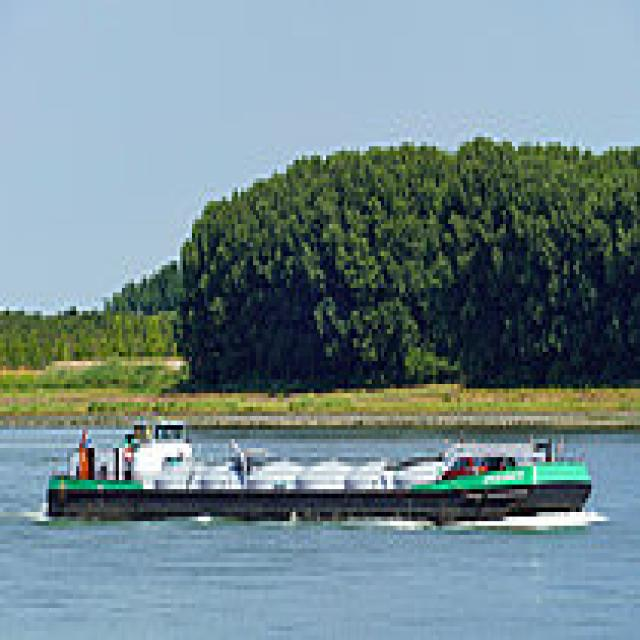Tanker: (40, 389, 597, 530)
